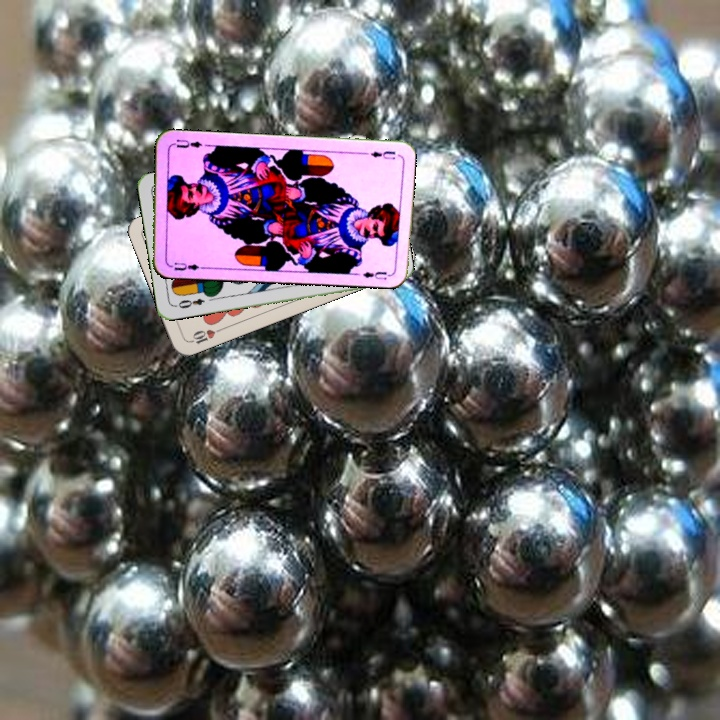EO: (171, 294, 207, 311)
EU: (165, 258, 205, 273), (366, 147, 398, 162)
H10: (185, 324, 225, 346)
